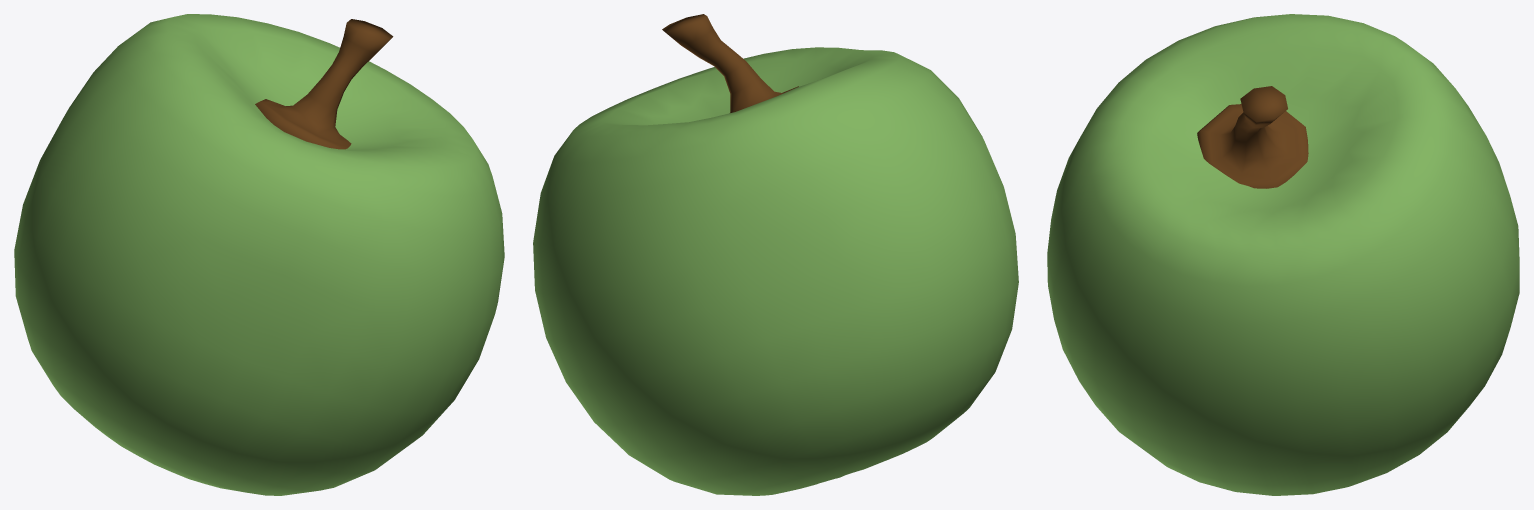
Rendered from market-apple2.fbx.
The picture shows the model from 3 angles, left to right: view 1: azimuth 30°, elevation 25°; view 2: azimuth 150°, elevation 25°; view 3: azimuth 270°, elevation 25°; orthographic projection. The views are drawn at different scales.
Visible parts, largest first — view 1: apple-green.002; view 2: apple-green.002; view 3: apple-green.002.
Boxes of the visible parts, box(x1,y1,x2,y2) form: apple-green.002: box(14, 14, 504, 495); apple-green.002: box(533, 14, 1018, 495); apple-green.002: box(1047, 14, 1519, 495).
Size of the model in its own units: 26.76 by 25.93 by 26.26.
